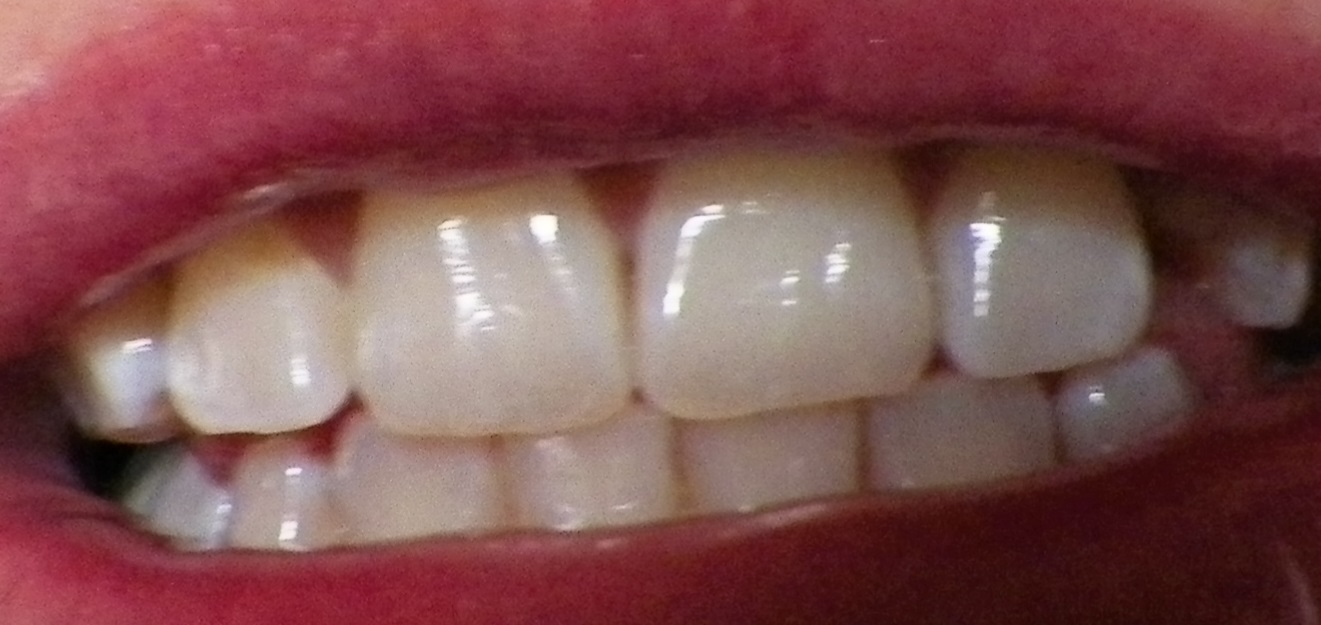boca: (56, 126, 1297, 578)
